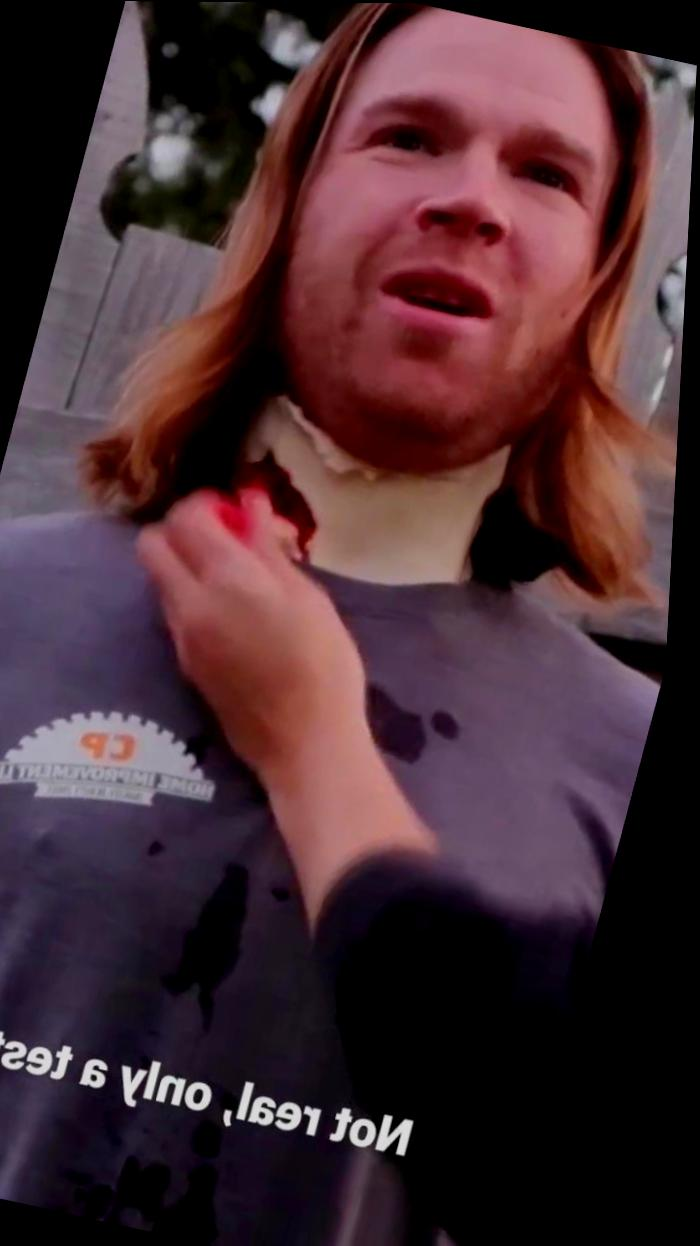Fire: (243, 452, 321, 561)
